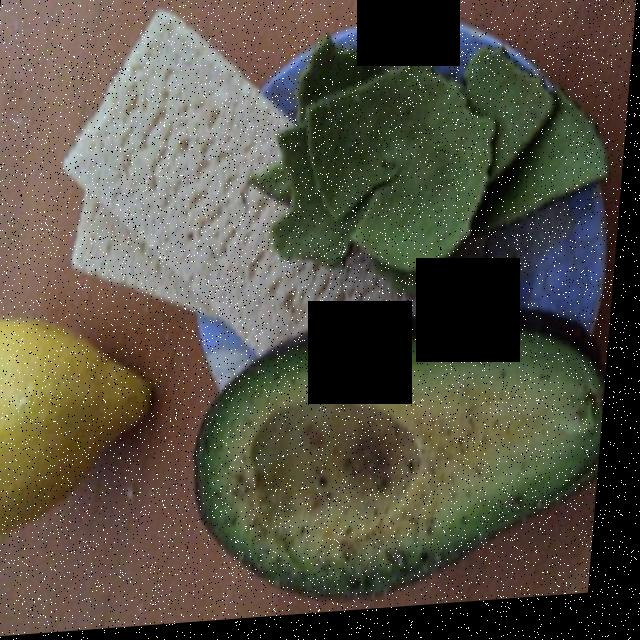avocado: (201, 346, 601, 569)
lemon: (0, 331, 150, 522)
